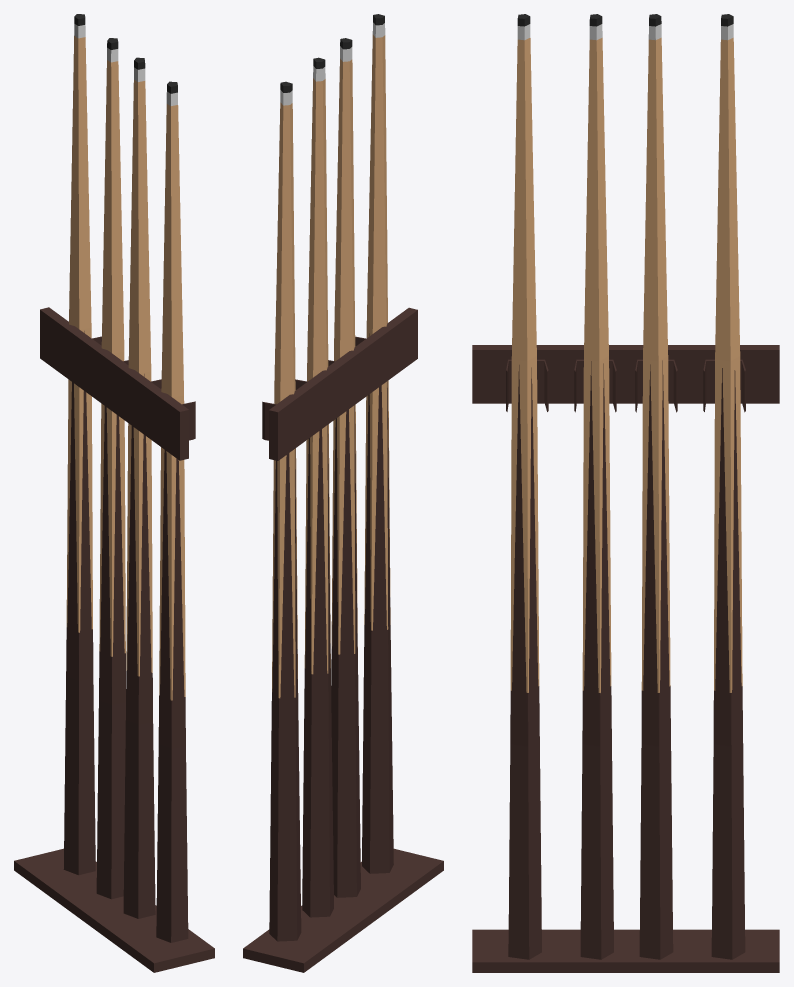
The model's file is PoolCueRack.fbx.
3 renders of one model, left to right at view 1: azimuth 30°, elevation 25°; view 2: azimuth 150°, elevation 25°; view 3: azimuth 270°, elevation 25°, orthographic. The views are drawn at different scales.
Visible parts, largest first — view 1: Cylinder.001, Cylinder.002, Cylinder.003, Cylinder.004, Cube, Cube.001; view 2: Cylinder.003, Cylinder.001, Cylinder.004, Cylinder.002, Cube, Cube.001; view 3: Cylinder.002, Cylinder.001, Cylinder.004, Cylinder.003, Cube.001, Cube, Cube.005, Cube.002, Cube.003, Cube.004.
Boxes of the visible parts, left/top/right/bottom form: Cylinder.001: left=156, top=81, right=188, bottom=942; Cylinder.002: left=123, top=57, right=155, bottom=918; Cylinder.003: left=63, top=14, right=95, bottom=875; Cylinder.004: left=96, top=38, right=125, bottom=899; Cube: left=40, top=307, right=188, bottom=460; Cube.001: left=14, top=848, right=214, bottom=972; Cylinder.003: left=269, top=81, right=301, bottom=941; Cylinder.001: left=362, top=14, right=393, bottom=873; Cylinder.004: left=302, top=57, right=333, bottom=917; Cylinder.002: left=331, top=38, right=360, bottom=897; Cube: left=269, top=307, right=417, bottom=460; Cube.001: left=243, top=848, right=443, bottom=972; Cylinder.002: left=580, top=14, right=613, bottom=959; Cylinder.001: left=508, top=14, right=541, bottom=959; Cylinder.004: left=639, top=14, right=673, bottom=959; Cylinder.003: left=711, top=14, right=745, bottom=959; Cube.001: left=472, top=929, right=779, bottom=972; Cube: left=472, top=345, right=779, bottom=403; Cube.005: left=635, top=359, right=677, bottom=412; Cube.002: left=506, top=359, right=548, bottom=411; Cube.003: left=574, top=359, right=616, bottom=412; Cube.004: left=703, top=359, right=745, bottom=412.
Bounding box in the file's own units: 21.43 × 290 × 85.4.
